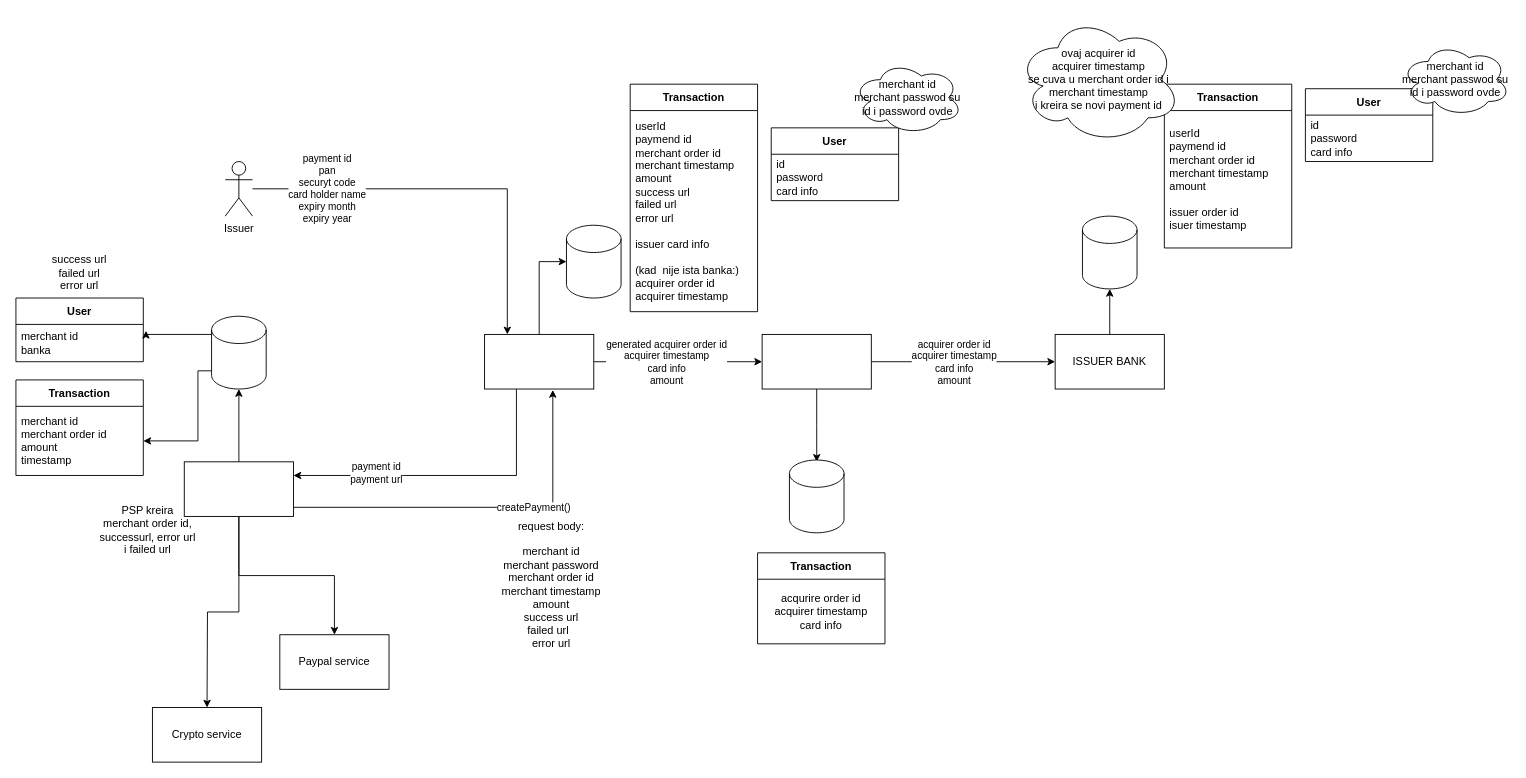
Image size: 1526x778. Some labels were removed from this diagram. The shapes that lost their labels are listed below. From the top down, each one's centre as x and y in pixels, then its label:
At (539,361): "ACQUIRER BANK".
At (816,361): "PCC".
At (238,488): "PSP".
